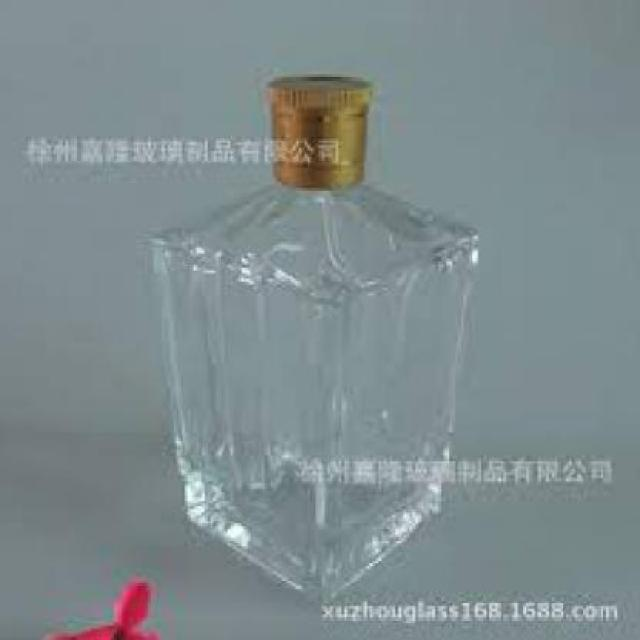kaca: (144, 180, 476, 595)
